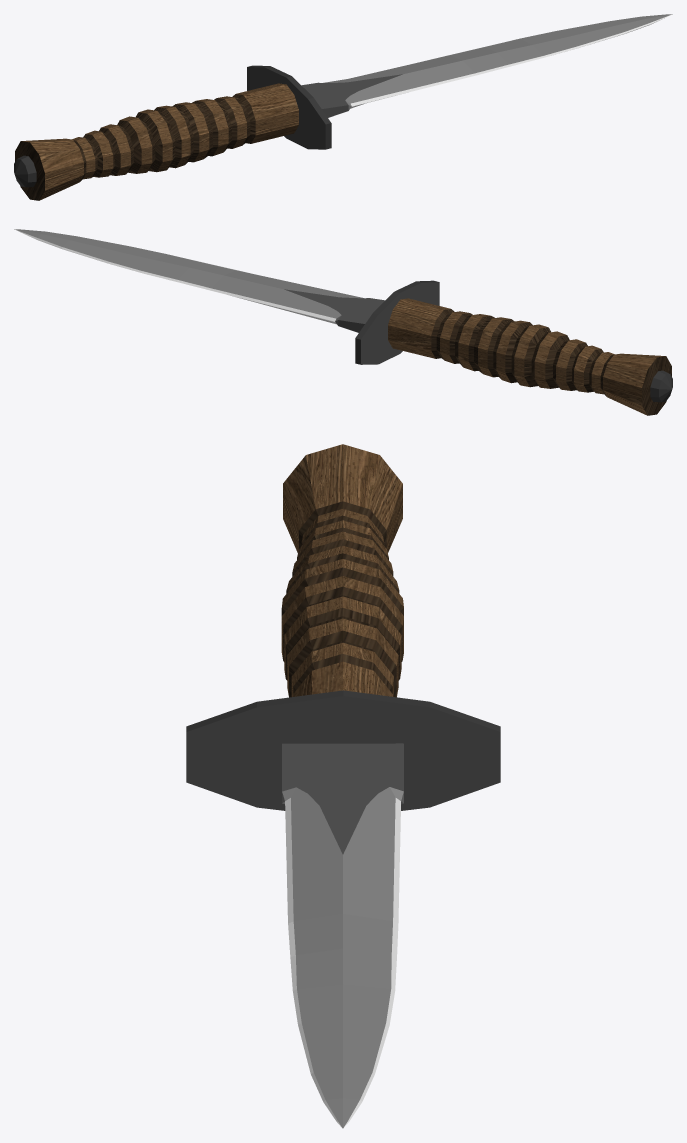
The model's file is WorldItem_FairbairnSykesKnife.fbx.
The picture shows the model from 3 angles, top to bottom: view 1: azimuth 30°, elevation 25°; view 2: azimuth 150°, elevation 25°; view 3: azimuth 270°, elevation 25°; orthographic projection. The views are drawn at different scales.
Visible parts, largest first — view 1: ZomboidFairbairnSykesKnife; view 2: ZomboidFairbairnSykesKnife; view 3: ZomboidFairbairnSykesKnife.
Boxes of the visible parts, x1,y1,x2,y2 form: ZomboidFairbairnSykesKnife: [14, 14, 672, 200]; ZomboidFairbairnSykesKnife: [14, 229, 672, 415]; ZomboidFairbairnSykesKnife: [186, 444, 500, 1128].
Size of the model in its own units: 0.2791 by 0.0247 by 0.0578.
